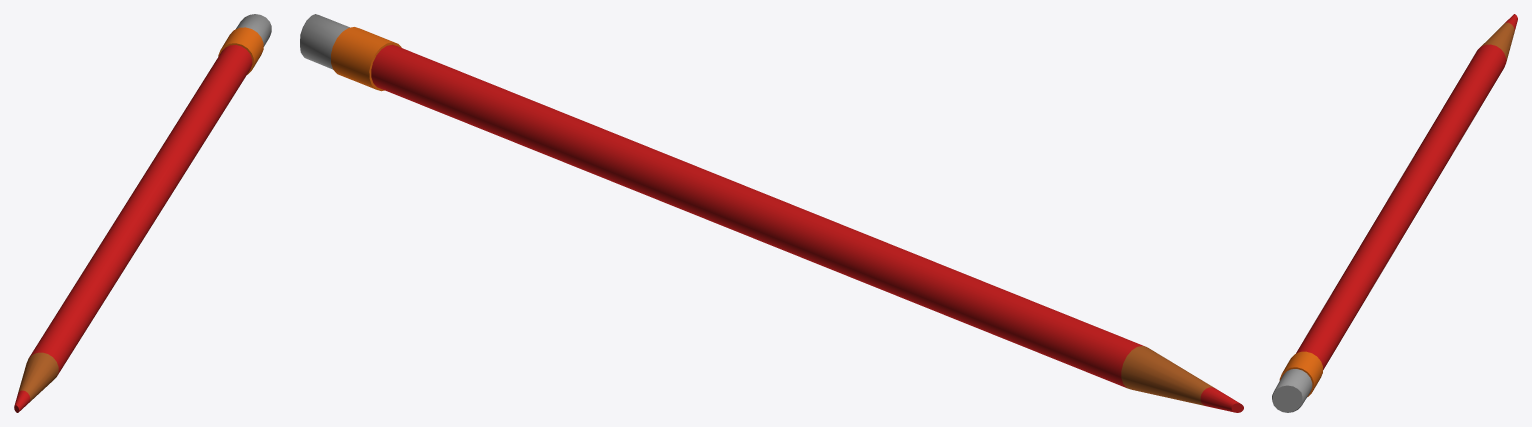
Rendered from SM_Pencil.fbx.
The picture shows the model from 3 angles, left to right: view 1: azimuth 90°, elevation 25°; view 2: azimuth 150°, elevation 25°; view 3: azimuth 270°, elevation 25°; orthographic projection. The views are drawn at different scales.
Parts seen in each view (by area): view 1: SM_Pencil; view 2: SM_Pencil; view 3: SM_Pencil.
Boxes of the visible parts, bbox=[...] form: SM_Pencil: bbox=[14, 14, 271, 412]; SM_Pencil: bbox=[300, 14, 1243, 412]; SM_Pencil: bbox=[1272, 14, 1517, 412].
Bounding box in the file's own units: 1217 × 338 × 58.73.
